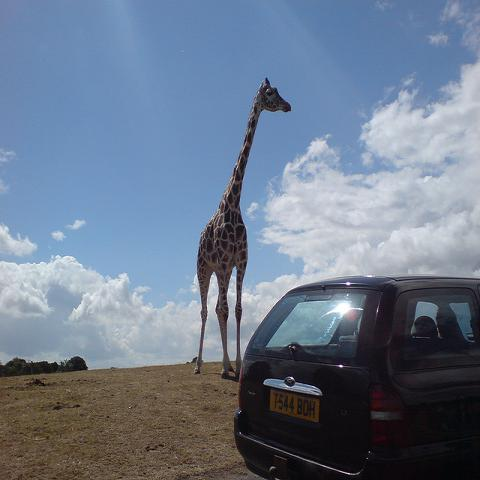car: (229, 274, 478, 474)
